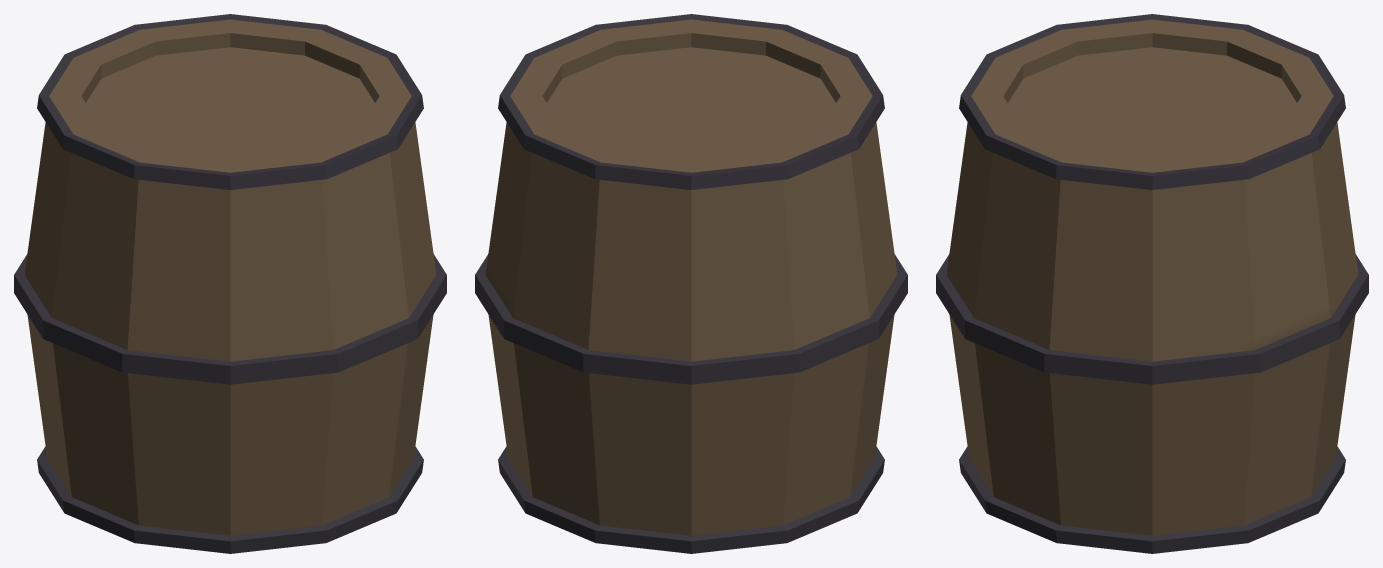
The model's file is Barrell.fbx.
3 views of the same model, side by side, from view 1: azimuth 30°, elevation 25°; view 2: azimuth 150°, elevation 25°; view 3: azimuth 270°, elevation 25° (orthographic).
Visible parts, largest first — view 1: Barrell; view 2: Barrell; view 3: Barrell.
Part boxes in pixels (bbox=[...]): Barrell: bbox=[14, 14, 446, 553]; Barrell: bbox=[475, 14, 907, 553]; Barrell: bbox=[936, 14, 1368, 553].
Bounding box in the file's own units: 209 × 201 × 209.
1 material, 1 textured.
